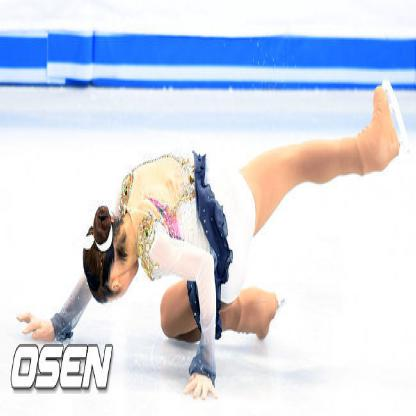Fall_Down: (20, 84, 401, 403)
